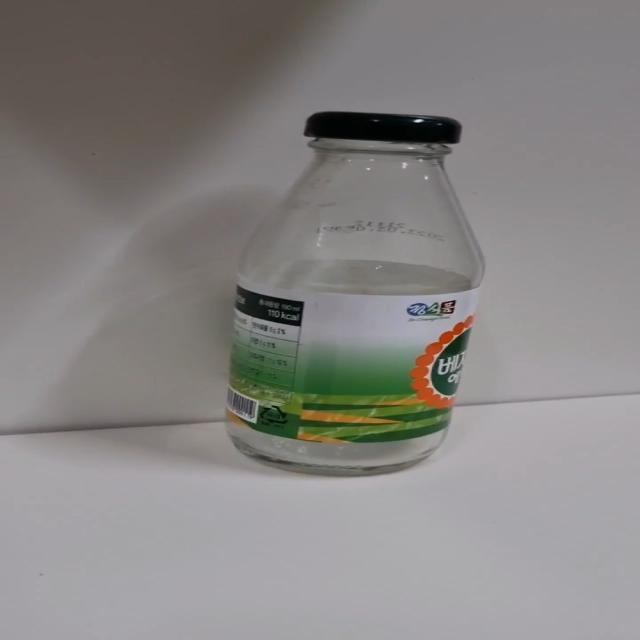Glass: (222, 112, 487, 480)
